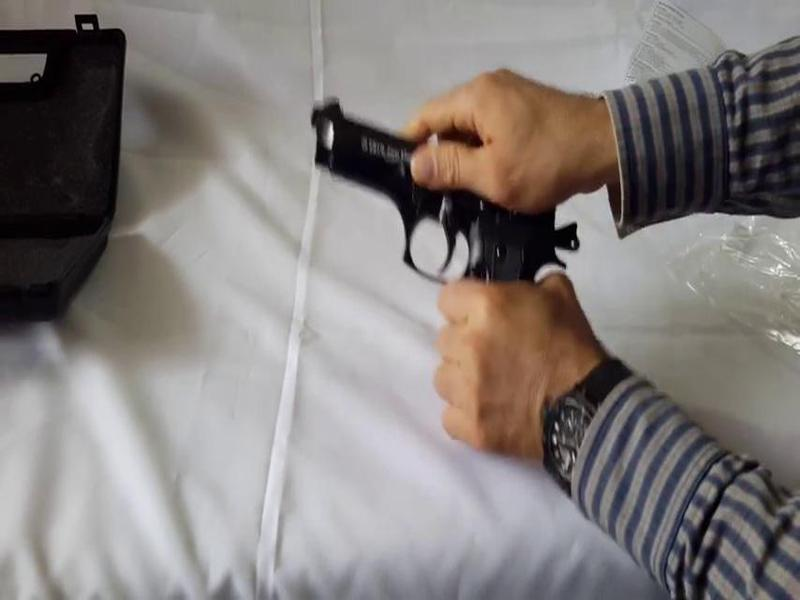Pistola: (290, 93, 585, 316)
